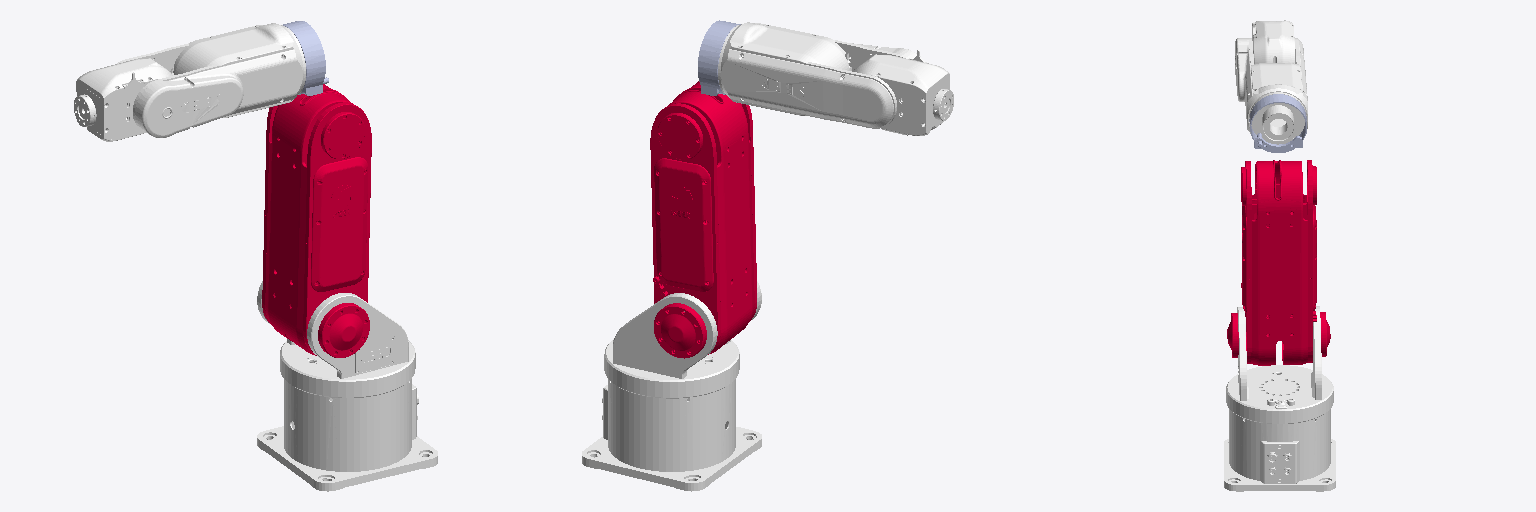
URDF robot description (S6H4D_urdf_file):
<?xml version="1.0" encoding="utf-8"?>
<!-- This URDF was automatically created by SolidWorks to URDF Exporter! Originally created by [author] ([email redacted]) 
     Commit Version: 1.6.0-4-g7f85cfe  Build Version: 1.6.7995.38578
     For more information, please see http://wiki.ros.org/sw_urdf_exporter -->
<robot
  name="S6H4D_urdf_file">
  <link name="world"/>
  <joint name="fixed" type="fixed">
     <parent link="world"/>
     <child link="base_link"/>
  </joint>
  <link
    name="base_link">
    <inertial>
      <origin
        xyz="-0.075441 -0.0044032 0.57925"
        rpy="0 0 0" />
      <mass
        value="0.028056" />
      <inertia
        ixx="5.3569E-05"
        ixy="9.6269E-07"
        ixz="1.3535E-06"
        iyy="2.871E-05"
        iyz="-6.7308E-07"
        izz="2.9632E-05" />
    </inertial>
    <visual>
      <origin
        xyz="0 0 0"
        rpy="0 0 0" />
      <geometry>
        <mesh
          filename="package://S6H4D_urdf_file/meshes/base_link.STL" />
      </geometry>
      <material
        name="">
        <color
          rgba="1 1 1 1" />
      </material>
    </visual>
    <collision>
      <origin
        xyz="0 0 0"
        rpy="0 0 0" />
      <geometry>
        <mesh
          filename="package://S6H4D_urdf_file/meshes/base_link.STL" />
      </geometry>
    </collision>
  </link>
  <link
    name="shoulder_link">
    <inertial>
      <origin
        xyz="-0.075547 -0.0018502 0.35915"
        rpy="0 0 0" />
      <mass
        value="0.028056" />
      <inertia
        ixx="5.3606E-05"
        ixy="1.2054E-07"
        ixz="1.3299E-06"
        iyy="2.8674E-05"
        iyz="-7.1845E-07"
        izz="2.9632E-05" />
    </inertial>
    <visual>
      <origin
        xyz="0 0 0"
        rpy="0 0 0" />
      <geometry>
        <mesh
          filename="package://S6H4D_urdf_file/meshes/shoulder_link.STL" />
      </geometry>
      <material
        name="">
        <color
          rgba="1 1 1 1" />
      </material>
    </visual>
    <collision>
      <origin
        xyz="0 0 0"
        rpy="0 0 0" />
      <geometry>
        <mesh
          filename="package://S6H4D_urdf_file/meshes/shoulder_link.STL" />
      </geometry>
    </collision>
  </link>
  <joint
    name="shoulde_pan_joint"
    type="fixed">
    <origin
      xyz="0 0 0.2201"
      rpy="0 0 0.033814" />
    <parent
      link="base_link" />
    <child
      link="shoulder_link" />
    <axis
      xyz="0 0 -1" />
    <limit
      lower="-3.1416"
      upper="3.1416"
      effort="150"
      velocity="30" />
  </joint>
  <link
    name="upper_arm_link">
    <inertial>
      <origin
        xyz="0.36025 0.024547 -0.0014538"
        rpy="0 0 0" />
      <mass
        value="0.028056" />
      <inertia
        ixx="2.9632E-05"
        ixy="-1.3299E-06"
        ixz="7.1845E-07"
        iyy="5.3606E-05"
        iyz="1.2054E-07"
        izz="2.8674E-05" />
    </inertial>
    <visual>
      <origin
        xyz="0 0 0"
        rpy="0 0 0" />
      <geometry>
        <mesh
          filename="package://S6H4D_urdf_file/meshes/upper_arm_link.STL" />
      </geometry>
      <material
        name="">
        <color
          rgba="0.93725 0 0.28235 1" />
      </material>
    </visual>
    <collision>
      <origin
        xyz="0 0 0"
        rpy="0 0 0" />
      <geometry>
        <mesh
          filename="package://S6H4D_urdf_file/meshes/upper_arm_link.STL" />
      </geometry>
    </collision>
  </link>
  <joint
    name="shoulde_lift_joint"
    type="fixed">
    <origin
      xyz="-0.051 -0.003304 -0.0011005"
      rpy="1.5708 -1.5708 0" />
    <parent
      link="shoulder_link" />
    <child
      link="upper_arm_link" />
    <axis
      xyz="0 0 -1" />
    <limit
      lower="-2.618"
      upper="2.618"
      effort="150"
      velocity="30" />
  </joint>
  <link
    name="foream_link">
    <inertial>
      <origin
        xyz="0.085346 0.031903 -0.0014538"
        rpy="0 0 0" />
      <mass
        value="0.028056" />
      <inertia
        ixx="2.9632E-05"
        ixy="-1.3299E-06"
        ixz="7.1845E-07"
        iyy="5.3606E-05"
        iyz="1.2054E-07"
        izz="2.8674E-05" />
    </inertial>
    <visual>
      <origin
        xyz="0 0 0"
        rpy="0 0 0" />
      <geometry>
        <mesh
          filename="package://S6H4D_urdf_file/meshes/foream_link.STL" />
      </geometry>
      <material
        name="">
        <color
          rgba="0.79608 0.82353 0.93725 1" />
      </material>
    </visual>
    <collision>
      <origin
        xyz="0 0 0"
        rpy="0 0 0" />
      <geometry>
        <mesh
          filename="package://S6H4D_urdf_file/meshes/foream_link.STL" />
      </geometry>
    </collision>
  </link>
  <joint
    name="elbow_joint"
    type="fixed">
    <origin
      xyz="0.2749 -0.0073556 0"
      rpy="0 0 0" />
    <parent
      link="upper_arm_link" />
    <child
      link="foream_link" />
    <axis
      xyz="0 0 -1" />
    <limit
      lower="-2.9147"
      upper="3.1416"
      effort="150"
      velocity="30" />
  </joint>
  <link
    name="wrist_1_link">
    <inertial>
      <origin
        xyz="-0.011639 -0.0018502 0.033646"
        rpy="0 0 0" />
      <mass
        value="0.028056" />
      <inertia
        ixx="2.9632E-05"
        ixy="-7.1845E-07"
        ixz="-1.3299E-06"
        iyy="2.8674E-05"
        iyz="-1.2054E-07"
        izz="5.3606E-05" />
    </inertial>
    <visual>
      <origin
        xyz="0 0 0"
        rpy="0 0 0" />
      <geometry>
        <mesh
          filename="package://S6H4D_urdf_file/meshes/wrist_1_link.STL" />
      </geometry>
      <material
        name="">
        <color
          rgba="1 1 1 1" />
      </material>
    </visual>
    <collision>
      <origin
        xyz="0 0 0"
        rpy="0 0 0" />
      <geometry>
        <mesh
          filename="package://S6H4D_urdf_file/meshes/wrist_1_link.STL" />
      </geometry>
    </collision>
  </link>
  <joint
    name="wrist_1_joint"
    type="fixed">
    <origin
      xyz="0.096984 -0.0017437 -0.003304"
      rpy="-1.5708 0 0" />
    <parent
      link="foream_link" />
    <child
      link="wrist_1_link" />
    <axis
      xyz="0.017976 0 0.99984" />
    <limit
      lower="-3.1416"
      upper="3.1416"
      effort="150"
      velocity="30" />
  </joint>
  <link
    name="wrist_2_link">
    <inertial>
      <origin
        xyz="-0.012249 -0.24257 0.0017997"
        rpy="0 0 0" />
      <mass
        value="0.028056" />
      <inertia
        ixx="2.9682E-05"
        ixy="-1.7605E-06"
        ixz="7.2033E-07"
        iyy="5.3551E-05"
        iyz="1.2618E-07"
        izz="2.868E-05" />
    </inertial>
    <visual>
      <origin
        xyz="0 0 0"
        rpy="0 0 0" />
      <geometry>
        <mesh
          filename="package://S6H4D_urdf_file/meshes/wrist_2_link.STL" />
      </geometry>
      <material
        name="">
        <color
          rgba="1 1 1 1" />
      </material>
    </visual>
    <collision>
      <origin
        xyz="0 0 0"
        rpy="0 0 0" />
      <geometry>
        <mesh
          filename="package://S6H4D_urdf_file/meshes/wrist_2_link.STL" />
      </geometry>
    </collision>
  </link>
  <joint
    name="wrist_2_joint"
    type="fixed">
    <origin
      xyz="0.0049615 0 0.27596"
      rpy="1.5709 0.017977 0.0041228" />
    <parent
      link="wrist_1_link" />
    <child
      link="wrist_2_link" />
    <axis
      xyz="0 0 -1" />
    <limit
      lower="-1.5708"
      upper="1.5708"
      effort="150"
      velocity="30" />
  </joint>
  <link
    name="wrist_3_link">
    <inertial>
      <origin
        xyz="-0.016596 -0.0028693 -0.24231"
        rpy="0 0 0" />
      <mass
        value="0.028056" />
      <inertia
        ixx="2.9632E-05"
        ixy="-7.1856E-07"
        ixz="-1.3299E-06"
        iyy="2.8674E-05"
        iyz="-1.1857E-07"
        izz="5.3606E-05" />
    </inertial>
    <visual>
      <origin
        xyz="0 0 0"
        rpy="0 0 0" />
      <geometry>
        <mesh
          filename="package://S6H4D_urdf_file/meshes/wrist_3_link.STL" />
      </geometry>
      <material
        name="">
        <color
          rgba="1 1 1 1" />
      </material>
    </visual>
    <collision>
      <origin
        xyz="0 0 0"
        rpy="0 0 0" />
      <geometry>
        <mesh
          filename="package://S6H4D_urdf_file/meshes/wrist_3_link.STL" />
      </geometry>
    </collision>
  </link>
  <joint
    name="wrist_3_joint"
    type="fixed">
    <origin
      xyz="0 0 -0.001"
      rpy="-1.5708 -0.0041214 0.017978" />
    <parent
      link="wrist_2_link" />
    <child
      link="wrist_3_link" />
    <axis
      xyz="0.0011963 0 -1" />
    <limit
      lower="-3.1416"
      upper="3.1416"
      effort="150"
      velocity="30" />
  </joint>
  
</robot>

--- Facts derived from the render (not from the file) ---
3 views of the same robot in one strip: view 1: azimuth 30°, elevation 25°; view 2: azimuth 150°, elevation 25°; view 3: azimuth 270°, elevation 25° (orthographic).
Model S6H4D_urdf_file with 8 links and 7 joints (7 fixed), rooted at world, posed every joint at zero.
Links seen in each view (by area): view 1: upper_arm_link, wrist_1_link, base_link, shoulder_link, wrist_2_link, foream_link, wrist_3_link; view 2: upper_arm_link, wrist_1_link, base_link, shoulder_link, wrist_3_link, foream_link, wrist_2_link; view 3: upper_arm_link, base_link, shoulder_link, wrist_1_link, foream_link, wrist_2_link, wrist_3_link.
Link boxes in pixels (x1,y1,x2,y2): upper_arm_link: (262, 84, 371, 357); wrist_1_link: (117, 23, 305, 137); base_link: (257, 379, 437, 491); shoulder_link: (257, 281, 415, 397); wrist_2_link: (74, 58, 170, 141); foream_link: (283, 21, 328, 95); wrist_3_link: (77, 58, 172, 138); upper_arm_link: (650, 81, 756, 358); wrist_1_link: (718, 22, 916, 128); base_link: (582, 379, 761, 491); shoulder_link: (604, 281, 761, 398); wrist_3_link: (856, 50, 953, 135); foream_link: (698, 20, 740, 95); wrist_2_link: (854, 54, 949, 134); upper_arm_link: (1227, 160, 1330, 365); base_link: (1224, 409, 1335, 491); shoulder_link: (1226, 306, 1333, 423); wrist_1_link: (1235, 38, 1307, 144); foream_link: (1249, 94, 1306, 152); wrist_2_link: (1252, 20, 1294, 63); wrist_3_link: (1253, 21, 1294, 63).
Bounding box of the posed robot: 0.5083 × 0.185 × 0.6499 m (x, y, z).
Meshes: 7 distinct files referenced, 7 mesh visuals loaded (7 binary STL).